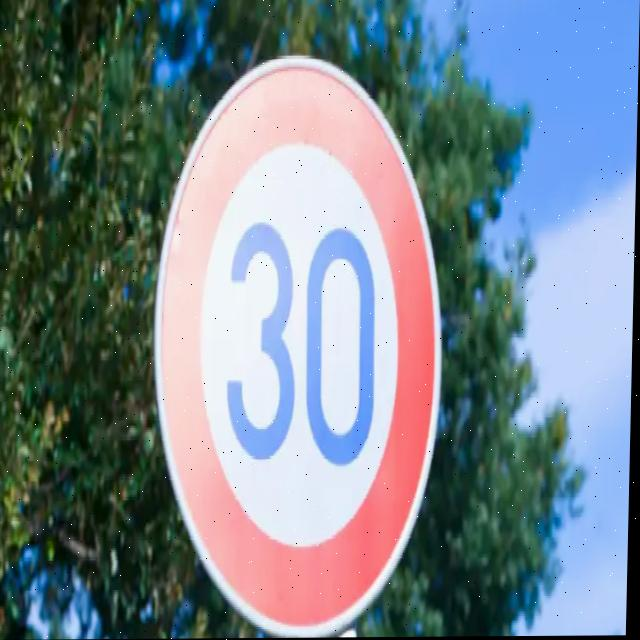Speed limit 30: (148, 50, 452, 636)
